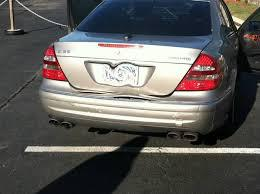boot-dent: (82, 46, 164, 101)
rear-bumper-dent: (59, 99, 213, 133)
